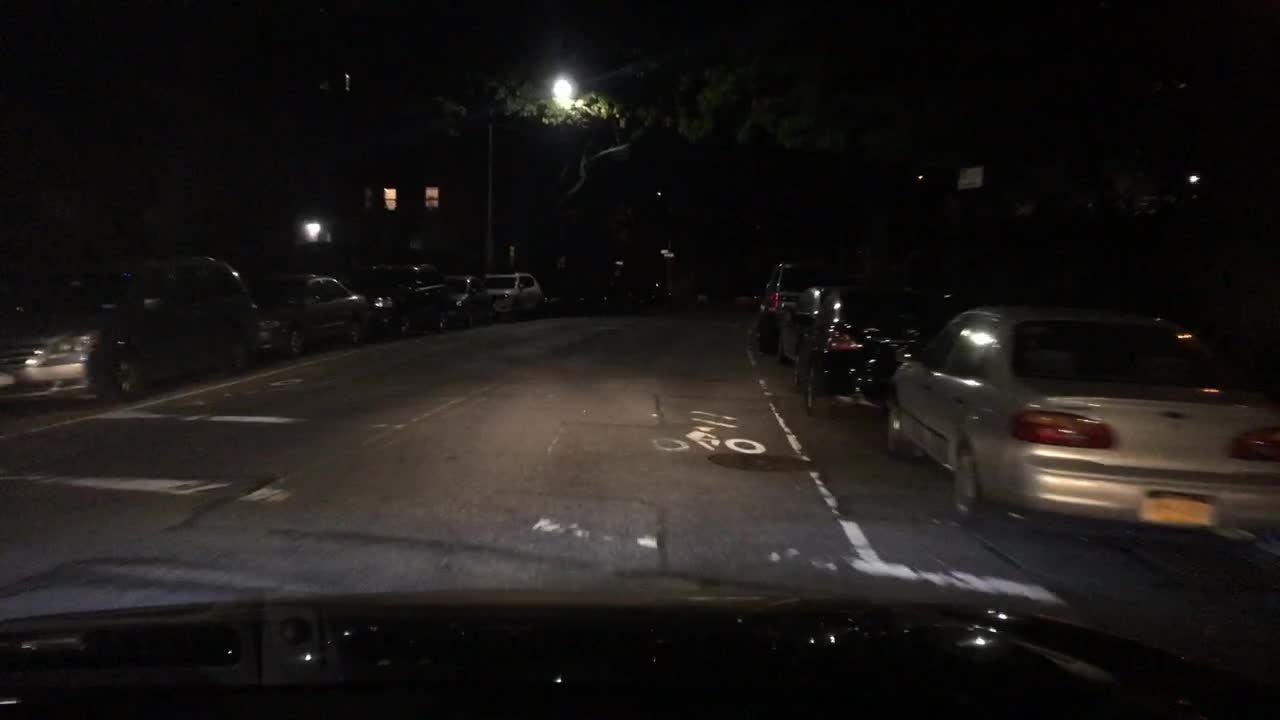car: (879, 305, 1279, 538), (0, 253, 266, 410), (788, 278, 958, 422), (246, 268, 369, 363), (747, 255, 843, 358), (354, 263, 444, 336), (773, 283, 833, 371), (476, 270, 545, 319), (442, 273, 489, 327), (571, 274, 616, 315), (542, 272, 580, 316), (618, 274, 643, 312)
traffic sign: (957, 165, 984, 189)
